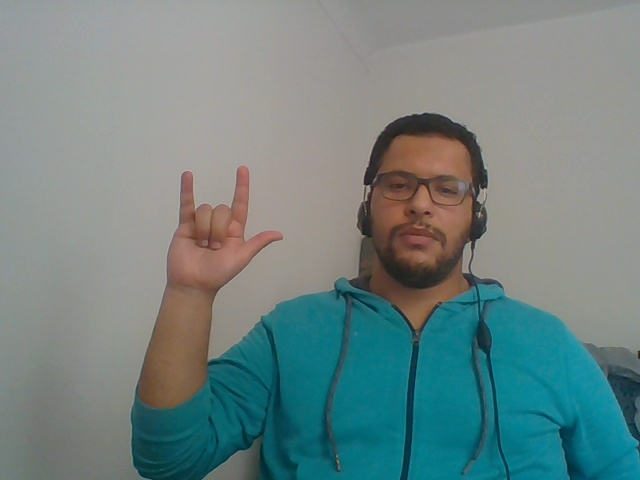iloveyou: (124, 134, 296, 360)
